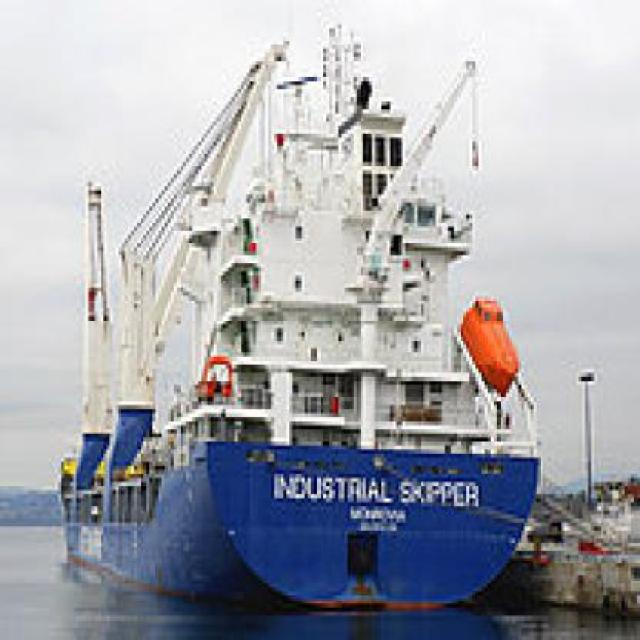container: (50, 17, 550, 630)
